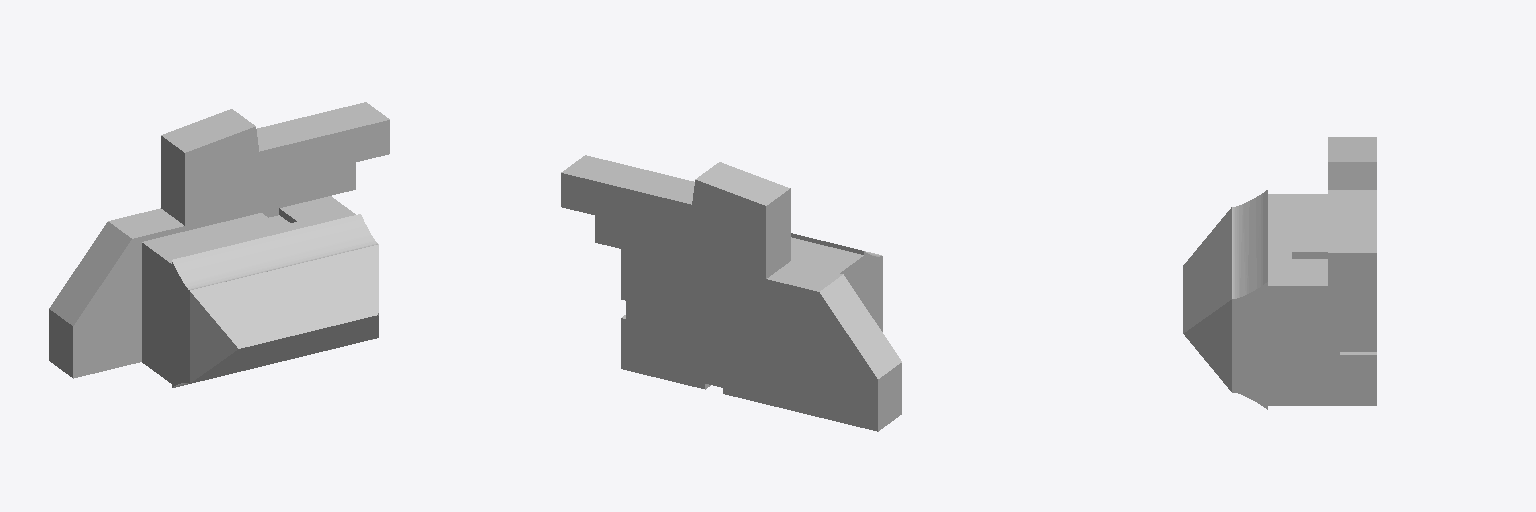
File: Arealplan_W19.obj
The picture shows the model from 3 angles: view 1: azimuth 30°, elevation 25°; view 2: azimuth 150°, elevation 25°; view 3: azimuth 270°, elevation 25°; orthographic projection.
Parts seen in each view (by area): view 1: Body6, Body1, Body4; view 2: Body6, Body1, Body4; view 3: Body1, Body6, Body4.
Part boxes in pixels (left/top/right/bottom): Body6: left=49, top=102, right=389, bottom=378; Body1: left=142, top=196, right=378, bottom=385; Body4: left=172, top=214, right=376, bottom=387; Body6: left=561, top=155, right=901, bottom=431; Body1: left=621, top=237, right=882, bottom=414; Body4: left=791, top=233, right=881, bottom=330; Body1: left=1183, top=194, right=1376, bottom=405; Body6: left=1328, top=137, right=1376, bottom=297; Body4: left=1232, top=190, right=1267, bottom=409.
Bounding box in the file's own units: 151 × 96.72 × 80.